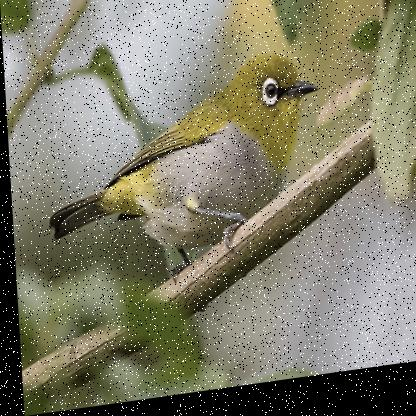Burung: (40, 56, 325, 301)
